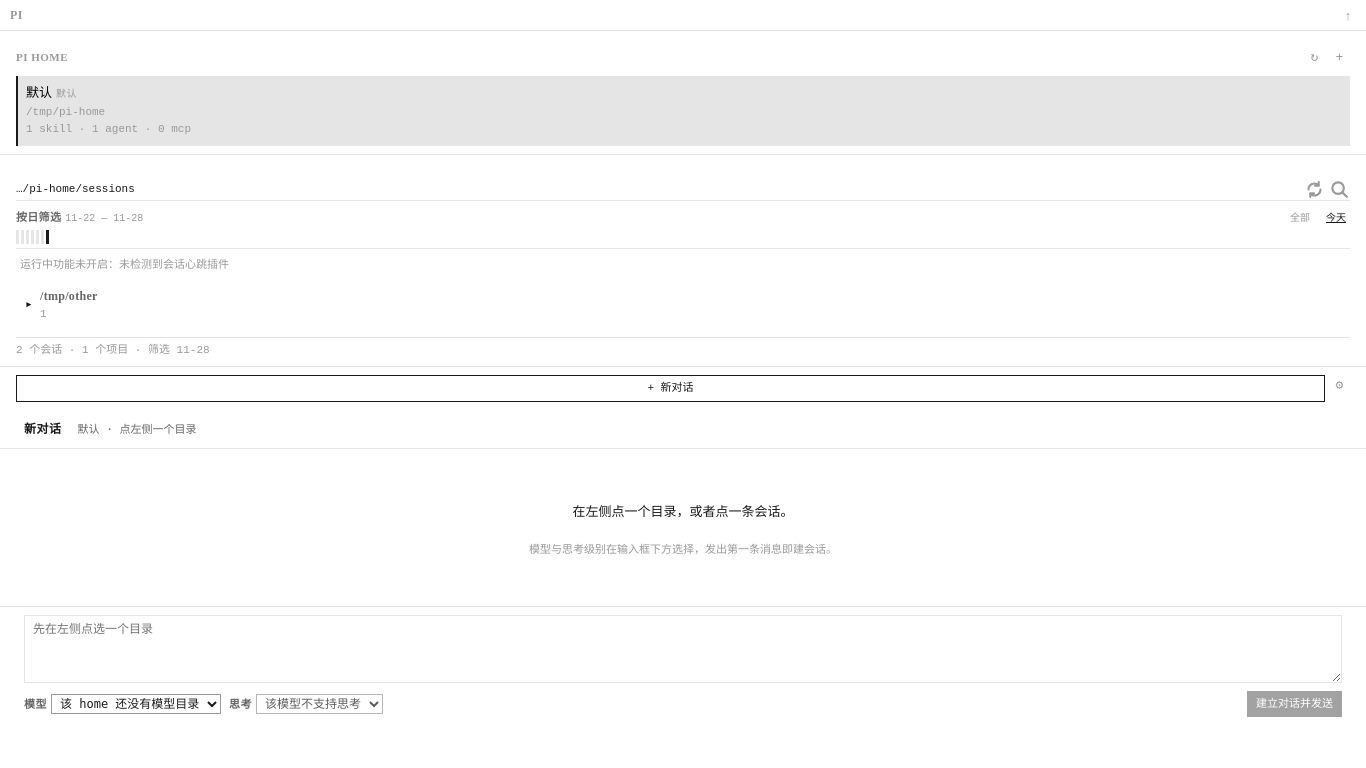
Test: Pi Web 模块 › 默认只看今天：几天前的会话被筛掉，活着的会话豁免仍可见
What coordinates should you click on to do the following:
click the button with class "sb-chevron"
I would click on:
 (29, 305)
Its box is [22,295,36,314].
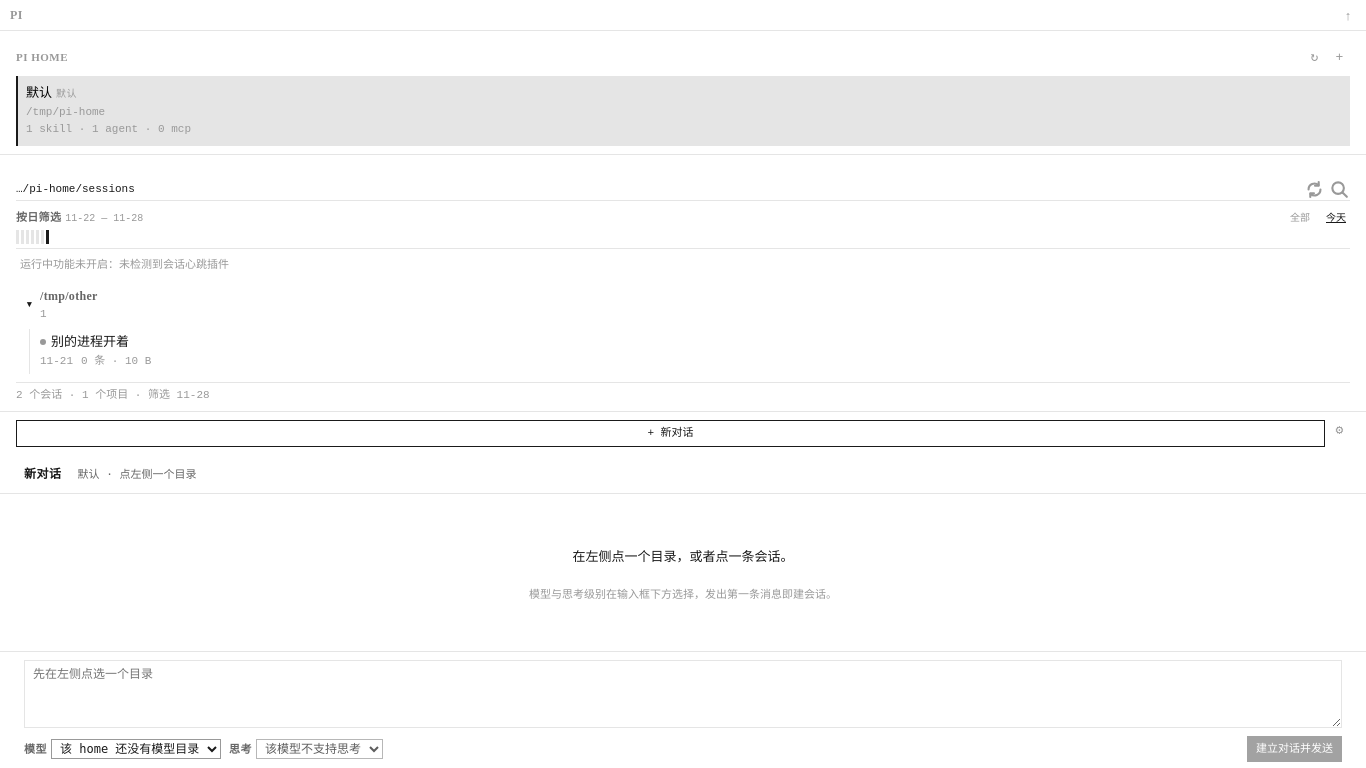
Now the button with class "session-item" is shown, box [16,328,1350,374]
Now the element with class "session-live-dot" is shown, box [40,338,46,344]
